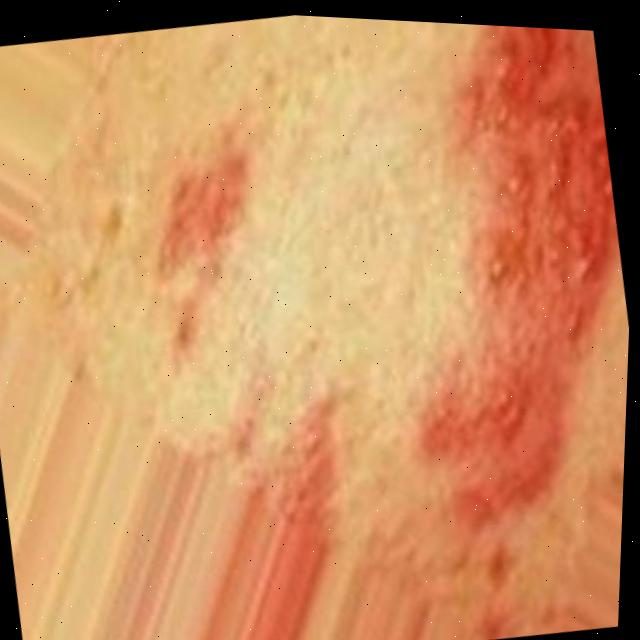Shingles: (398, 22, 640, 498), (141, 148, 263, 286), (278, 401, 345, 520)
